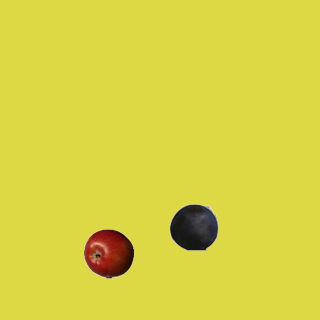Apple Braeburn: (83, 228, 133, 278)
Grape Blue: (168, 201, 218, 251)
